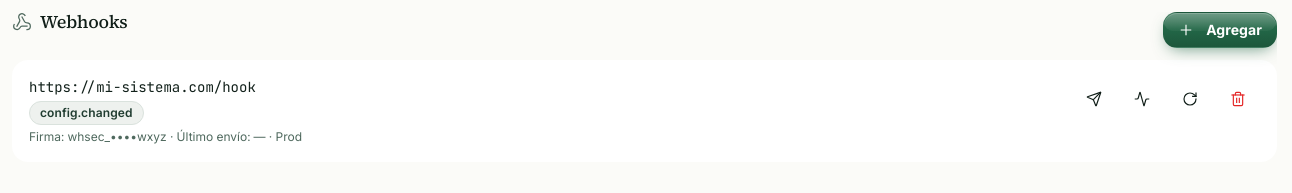
Test: WebhooksSection: acciones sobre un webhook › eliminar exige confirmar: el primer clic no borra
Click the button named "Eliminar".
click(1238, 99)  # box [1216,77,1260,121]
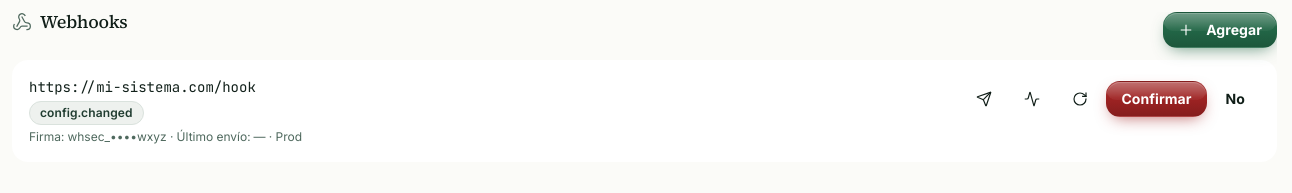
Click the button "Confirmar".
click(1156, 99)  # box [1106,81,1207,117]
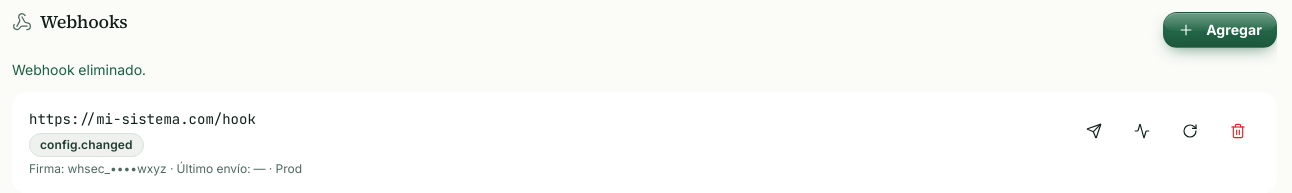
Result: the message shows "eliminado" at [12,61,146,78]
